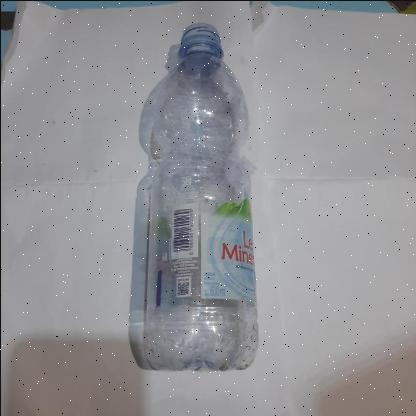Plastic Bottle: (100, 0, 280, 382)
